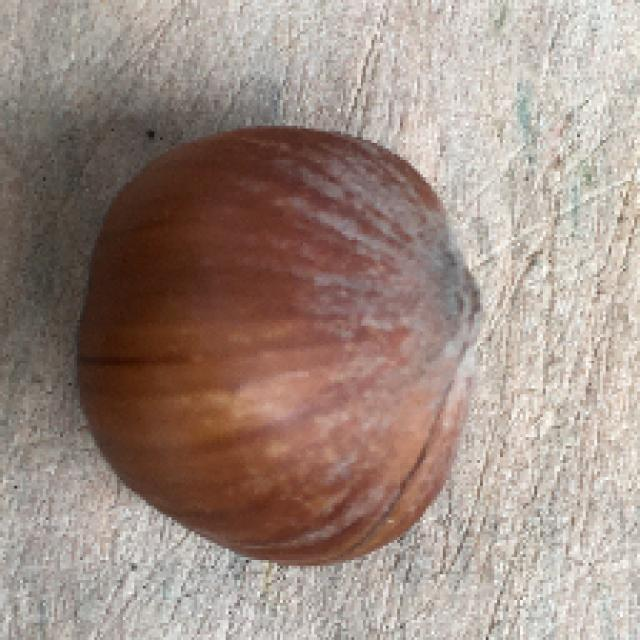qualityHazelnut: (57, 119, 493, 568)
